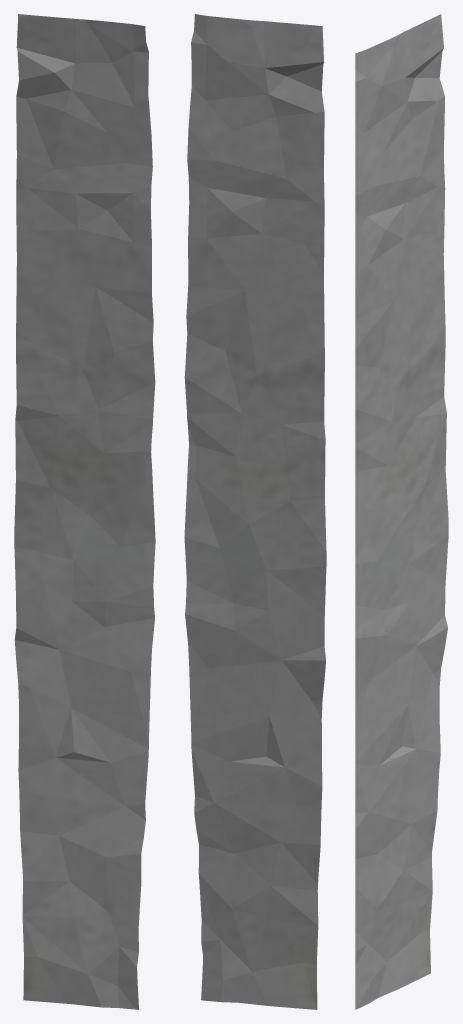
3 views of the same model, side by side, from view 1: azimuth 30°, elevation 25°; view 2: azimuth 210°, elevation 25°; view 3: azimuth 270°, elevation 25° (orthographic). The views are drawn at different scales.
Size of the model in its own units: 0.0833 by 0.8374 by 0.074.
1 material, 1 textured.
